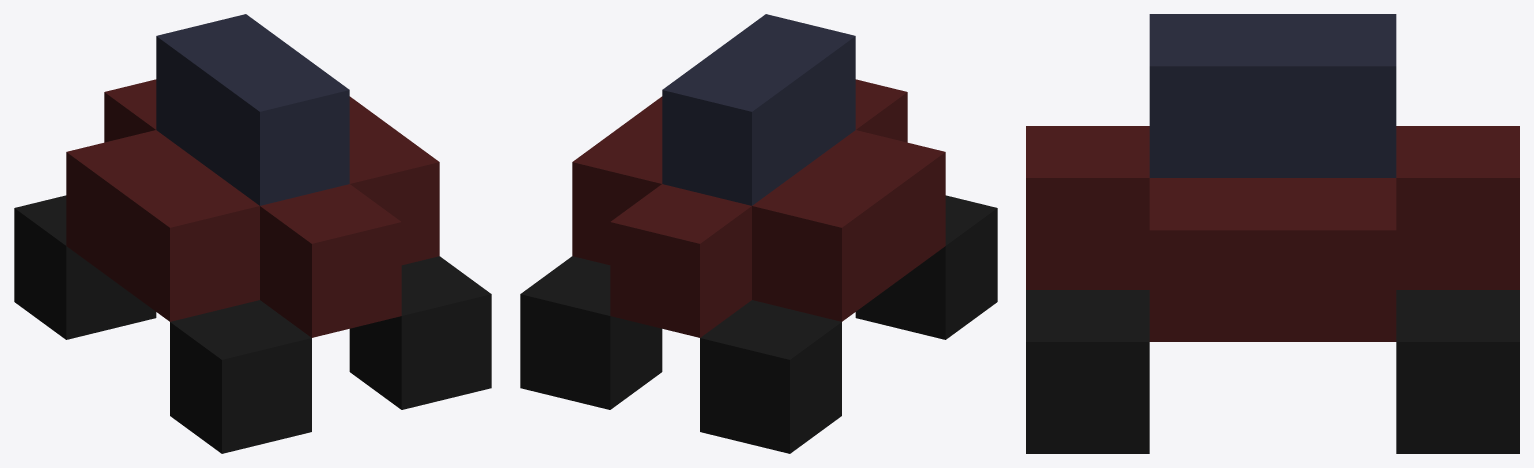
File: KidsRoom-4.obj
3 renders of one model, left to right at view 1: azimuth 30°, elevation 25°; view 2: azimuth 150°, elevation 25°; view 3: azimuth 270°, elevation 25°, orthographic. The views are drawn at different scales.
Bounding box in the file's own units: 0.3 × 0.3 × 0.4.
Materials: 1 (1 with a texture image).
